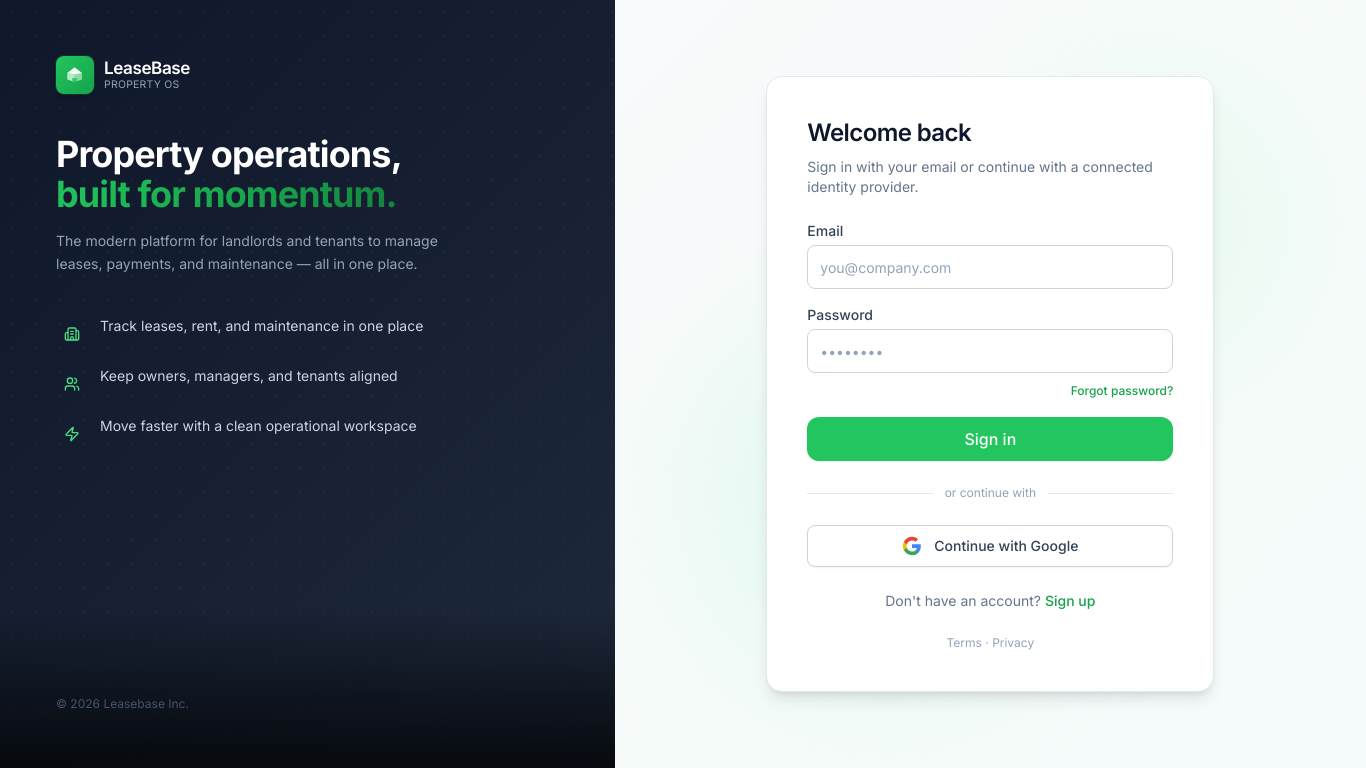
Test: Login — USER_NOT_CONFIRMED handling › does NOT show confirm/resend CTAs for a generic login error (no code)
Type "test@example.com" into the field labelled "Email" at x=990, y=267, box [807,245,1173,289]
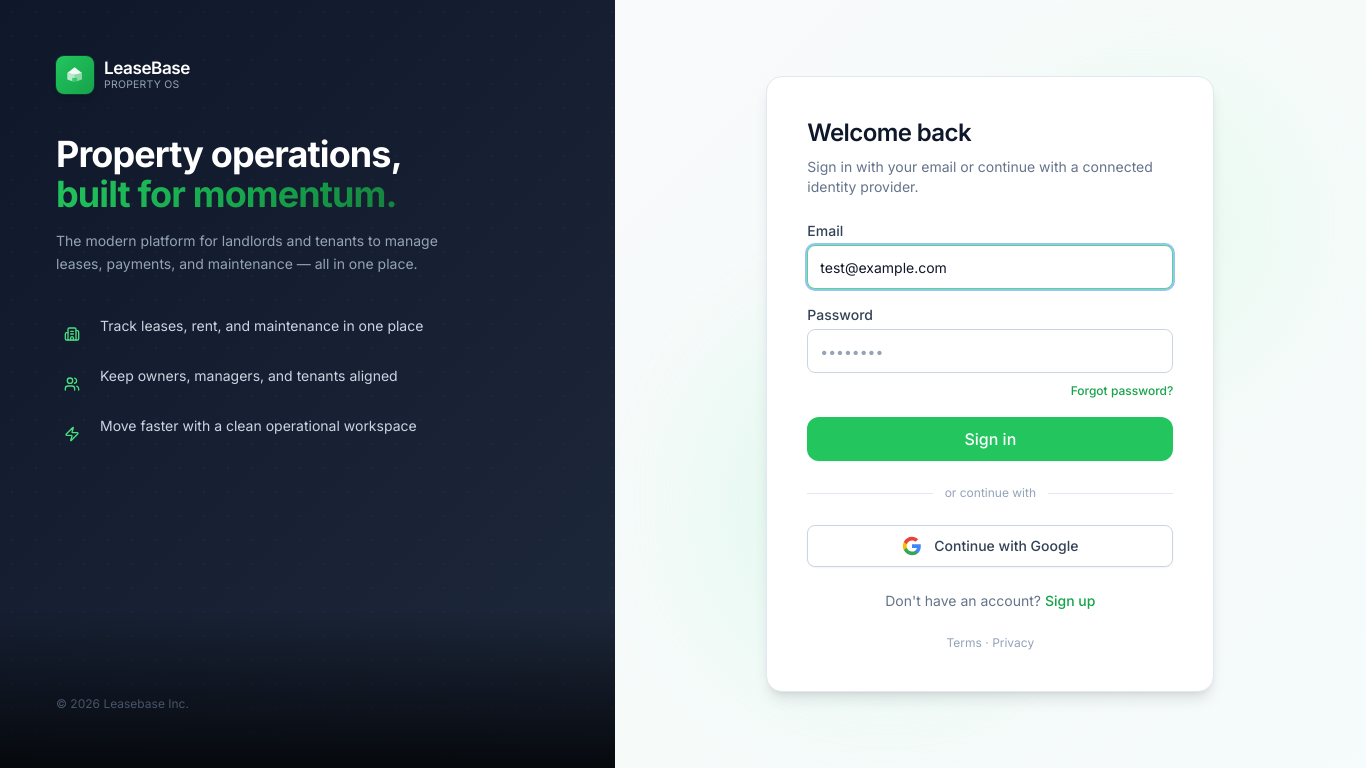
Type "SomePass1!" into the password field labelled "Password" at x=990, y=351, box [807,329,1173,373]
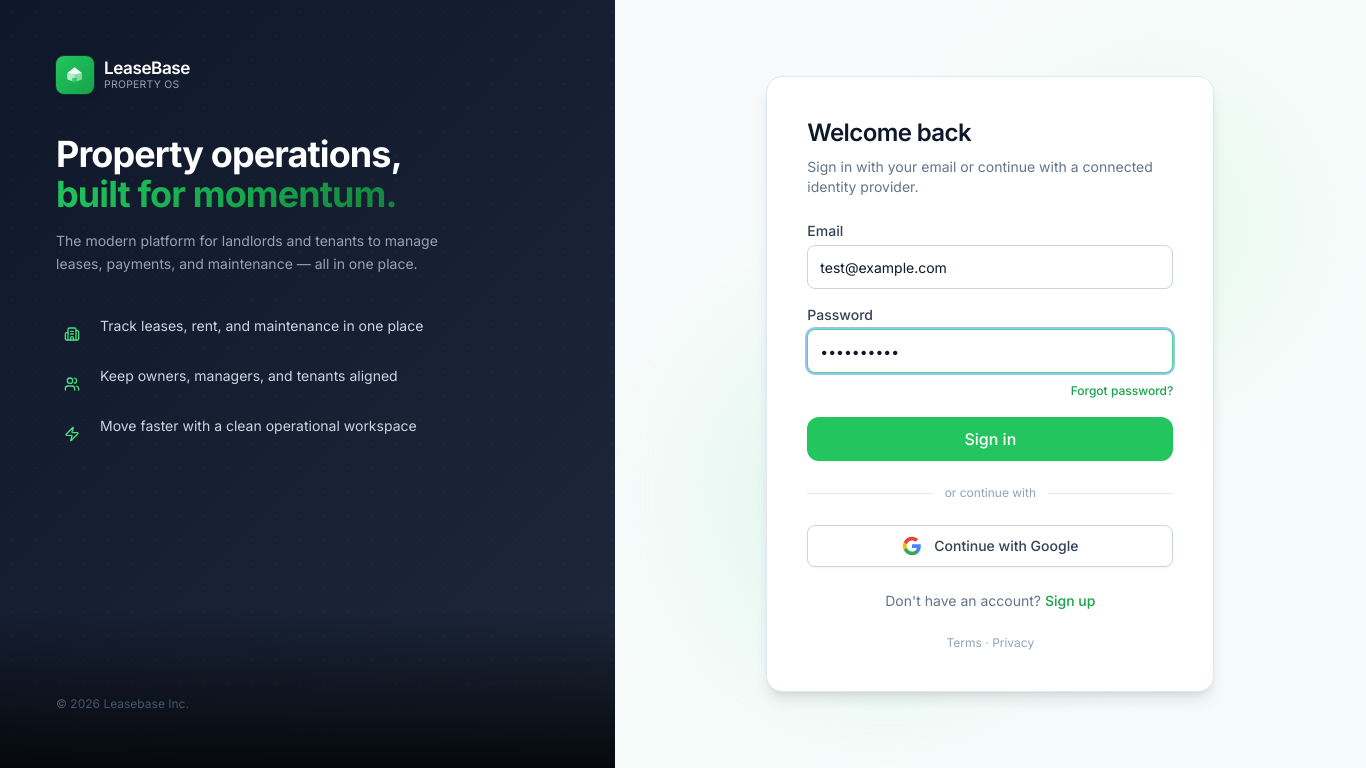
Click the button "Sign in" at x=990, y=439, box [807,417,1173,461]
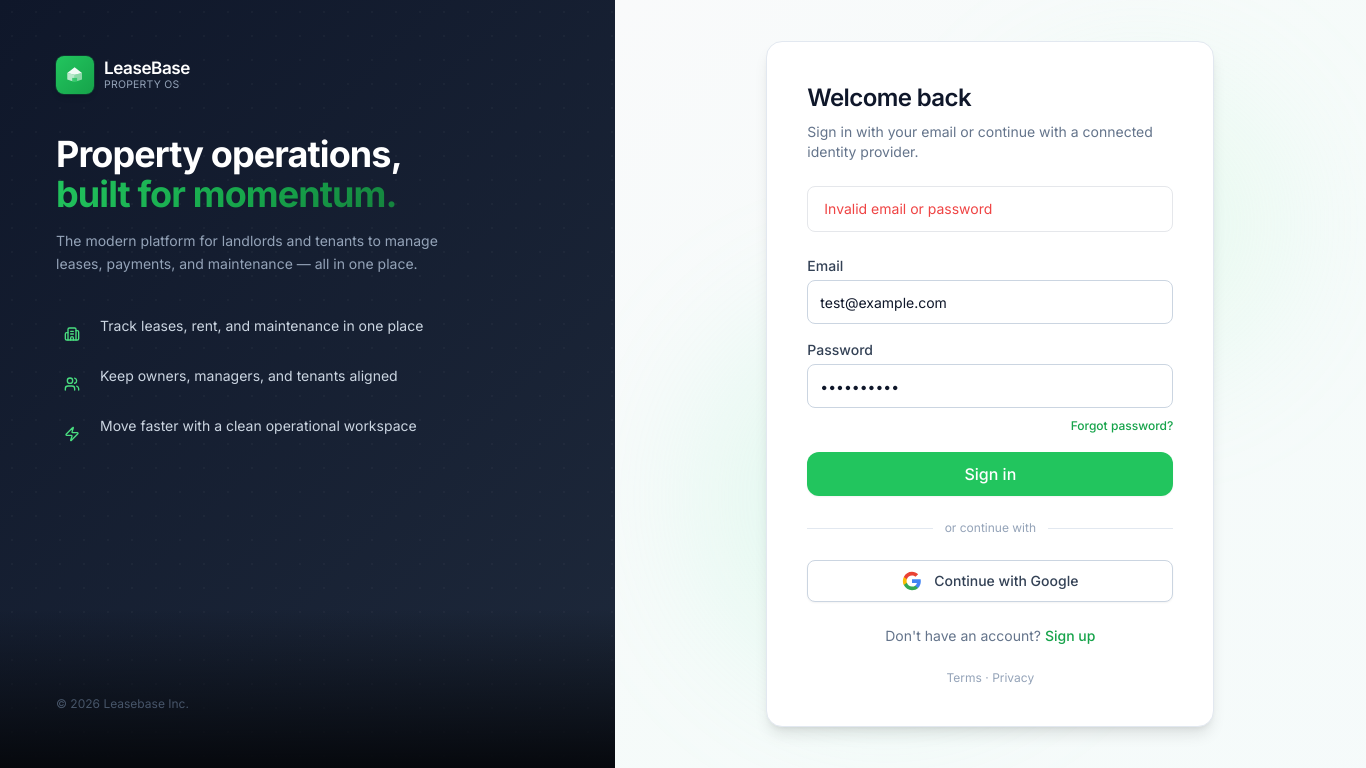
Expected: the message "Invalid email or password" is shown, [807,186,1173,232]
Expected: the text "Invalid email or password" is shown, [824,200,992,217]
